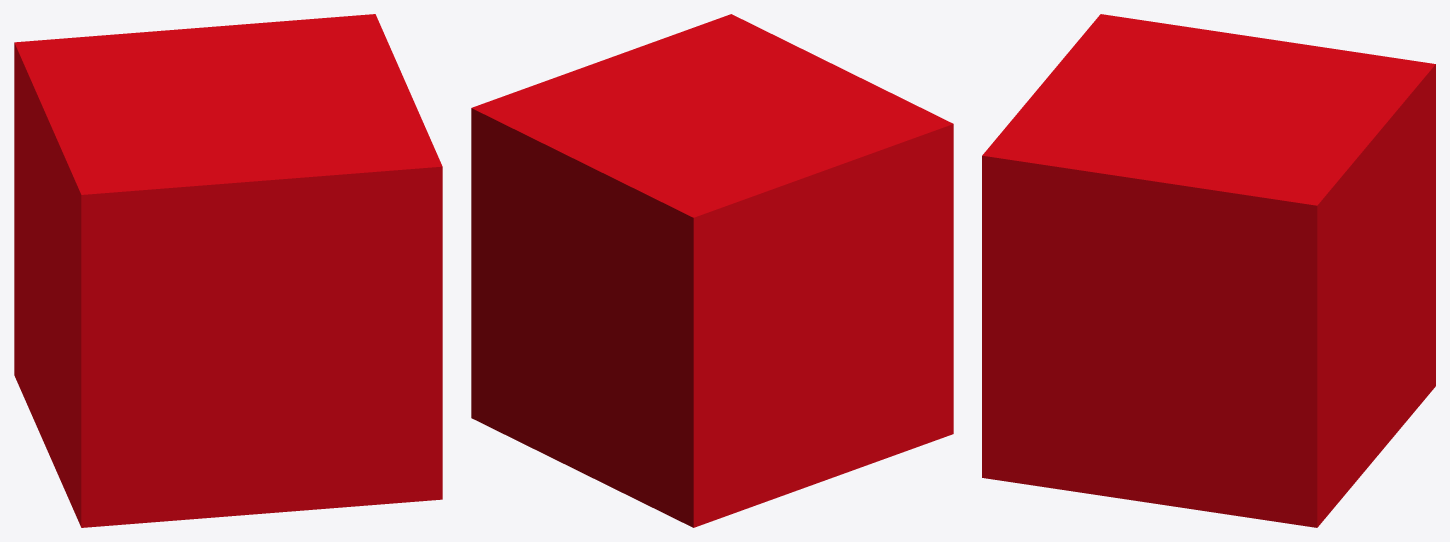
3 views of the same model, side by side, from view 1: azimuth 30°, elevation 25°; view 2: azimuth 150°, elevation 25°; view 3: azimuth 270°, elevation 25° (orthographic). The views are drawn at different scales.
Parts seen in each view (by area): view 1: Cube; view 2: Cube; view 3: Cube.
Part boxes in pixels (<box>): Cube: <box>14,14,442,527</box>; Cube: <box>471,14,953,527</box>; Cube: <box>982,14,1435,527</box>.
Size of the model in its own units: 2.55 by 2 by 2.55.
